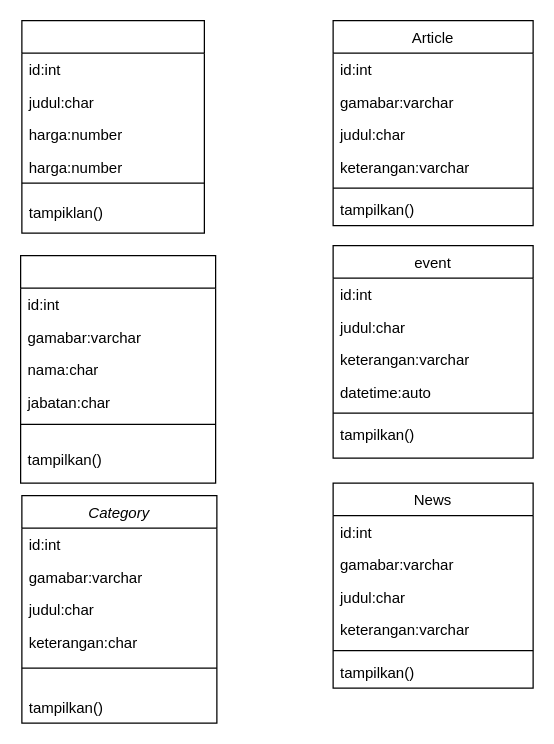
This 554x744 diagram has some shape labels left out. Each missing label, with the box of its shape:
Product: (21, 19, 204, 233)
Team: (19, 254, 216, 483)
